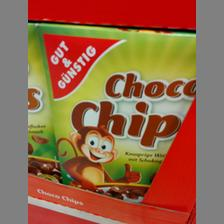Cerealien: (36, 22, 196, 202)
